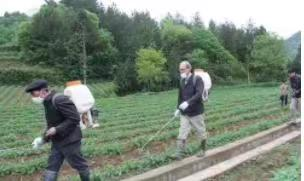berrl: (62, 80, 98, 133), (193, 66, 212, 102)
